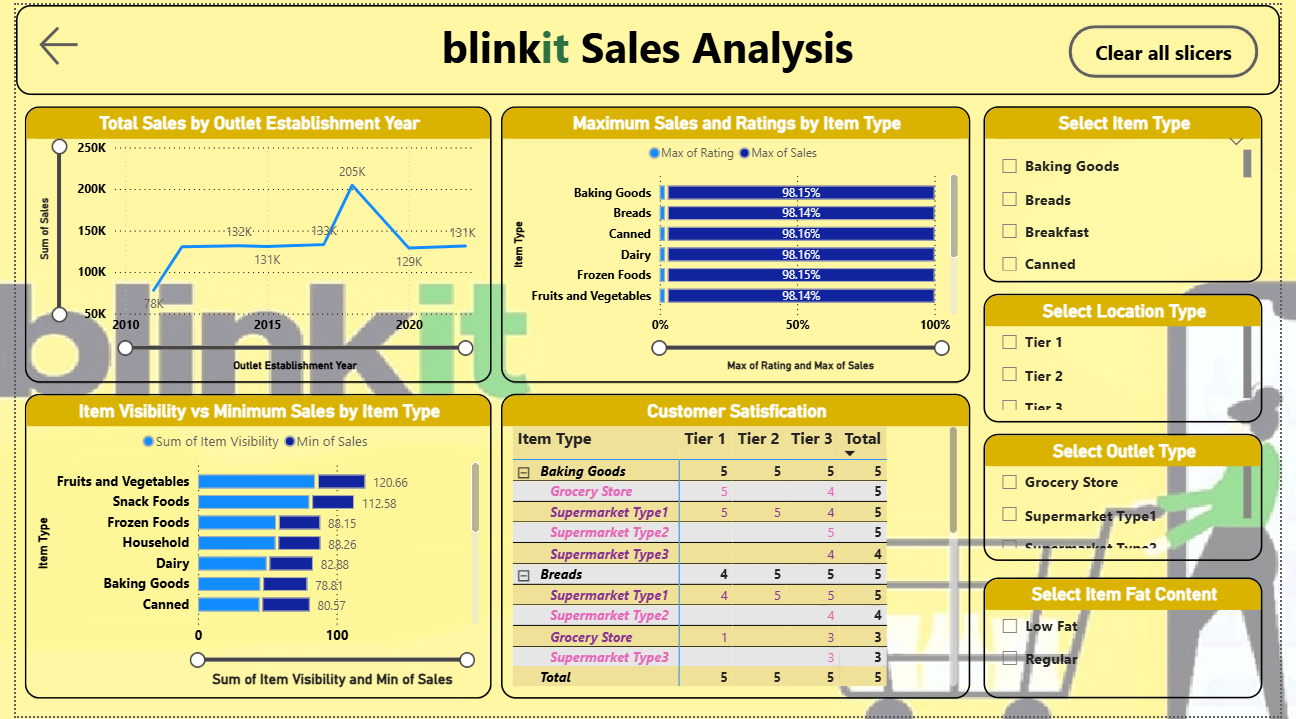

What the dashboard file says about the page in this screenshot:
{"tool":"powerbi","page":{"name":"Page 2","canvas":[1280,720],"ordinal":1},"visuals":[{"type":"lineChart","title":"Total Sales by Outlet Establishment Year","fields":{"Category":["BlinkIT Grocery Data.Outlet Establishment Year"],"Y":["Sum(BlinkIT Grocery Data.Sales)"]},"box":[8.8,102.5,472.5,280],"z":0},{"type":"barChart","title":"Item Visibility vs Minimum Sales by Item Type","fields":{"Category":["BlinkIT Grocery Data.Item Type"],"Y":["Sum(BlinkIT Grocery Data.Item Visibility)","Min(BlinkIT Grocery Data.Sales)"]},"box":[8.8,393.8,472.5,308.8],"z":1000},{"type":"hundredPercentStackedBarChart","title":"Maximum Sales and Ratings by Item Type","fields":{"Category":["BlinkIT Grocery Data.Item Type"],"Y":["Max(BlinkIT Grocery Data.Rating)","Max(BlinkIT Grocery Data.Sales)"]},"box":[491.2,102.5,475,280],"z":2000},{"type":"pivotTable","title":"Customer Satisfication","fields":{"Columns":["BlinkIT Grocery Data.Outlet Location Type"],"Rows":["BlinkIT Grocery Data.Item Type","BlinkIT Grocery Data.Outlet Type"],"Values":["Count(BlinkIT Grocery Data.Rating)"]},"box":[491.2,393.8,475,308.8],"z":3000},{"type":"slicer","title":"Select Item Type","fields":{"Values":["BlinkIT Grocery Data.Item Type"]},"box":[980,102.5,282.5,178.8],"z":4000},{"type":"slicer","title":"Select Location Type","fields":{"Values":["BlinkIT Grocery Data.Outlet Location Type"]},"box":[980,292.5,282.5,130],"z":5000},{"type":"slicer","title":"Select Outlet Type","fields":{"Values":["BlinkIT Grocery Data.Outlet Type"]},"box":[980,433.8,282.5,128.8],"z":6000},{"type":"slicer","title":"Select Item Fat Content","fields":{"Values":["BlinkIT Grocery Data.Item Fat Content"]},"box":[980,580,282.5,122.5],"z":7000},{"type":"textbox","box":[0,0,1280,91.2],"z":8000},{"type":"actionButton","box":[18.8,16.2,55,50],"z":9000},{"type":"actionButton","box":[1062.5,16.2,200,61.2],"z":10000}]}

Visuals, with their boxes in screenshot pixels (x1, y1, x2, y2), scaled from the page's 1280x720 canvas onto the 1296x719 screenshot:
"Total Sales by Outlet Establishment Year" lineChart: left=9, top=102, right=487, bottom=382
"Item Visibility vs Minimum Sales by Item Type" barChart: left=9, top=393, right=487, bottom=702
"Maximum Sales and Ratings by Item Type" hundredPercentStackedBarChart: left=497, top=102, right=978, bottom=382
"Customer Satisfication" pivotTable: left=497, top=393, right=978, bottom=702
"Select Item Type" slicer: left=992, top=102, right=1278, bottom=281
"Select Location Type" slicer: left=992, top=292, right=1278, bottom=422
"Select Outlet Type" slicer: left=992, top=433, right=1278, bottom=562
"Select Item Fat Content" slicer: left=992, top=579, right=1278, bottom=702
textbox: left=0, top=0, right=1295, bottom=91
actionButton: left=19, top=16, right=75, bottom=66
actionButton: left=1076, top=16, right=1278, bottom=77
